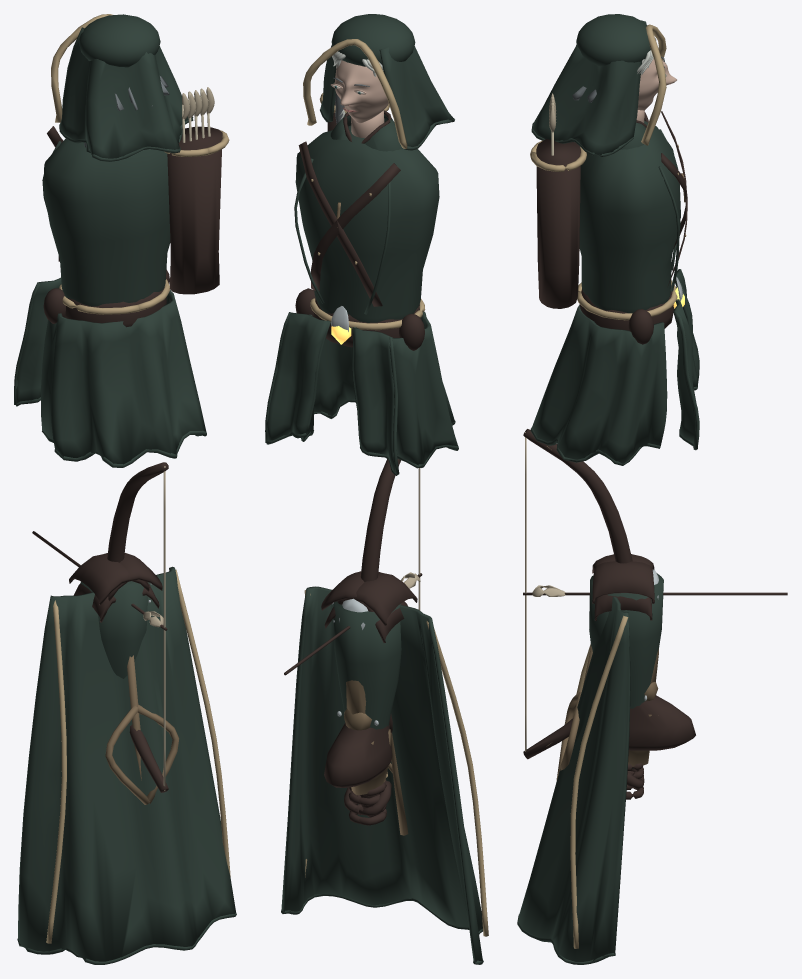
The model's file is ranger.glb.
The picture shows the model from 3 angles, left to right: view 1: azimuth 30°, elevation 25°; view 2: azimuth 150°, elevation 25°; view 3: azimuth 270°, elevation 25°; orthographic projection. The views are drawn at different scales.
Parts seen in each view (by area): view 1: Cape__sage, Body__sage, Body__leather, Cape__gold, LegL__sage, Weapon__leather, Cape__bronze, Body__gold, ArmL__leather, ArmR__leather, BowString__linen, Body__linen; view 2: Body__sage, Cape__sage, LegL__sage, Body__leather, KneeL__leather, ArmL__leather, Body__skin, Body__gold, Weapon__leather, Cape__gold, ArmR__leather, ArmL__bronze (+2 smaller); view 3: Body__sage, Cape__sage, Body__leather, LegL__sage, ArmR__leather, KneeL__leather, Weapon__leather, Body__gold, Cape__gold, Body__skin, Cape__bronze, Arrow__leather (+1 smaller).
Part boxes in pixels (box(x1,y1,x2,y2)): Cape__sage: box(17, 566, 236, 964); Body__sage: box(14, 14, 206, 467); Body__leather: box(43, 126, 222, 327); Cape__gold: box(46, 569, 230, 943); LegL__sage: box(80, 581, 147, 678); Weapon__leather: box(107, 462, 168, 792); Cape__bronze: box(105, 655, 179, 804); Body__gold: box(51, 14, 229, 314); ArmL__leather: box(69, 554, 149, 622); ArmR__leather: box(103, 553, 162, 608); BowString__linen: box(163, 466, 165, 790); Body__linen: box(182, 87, 214, 119); Body__sage: box(265, 14, 458, 475); Cape__sage: box(281, 586, 483, 964); LegL__sage: box(333, 601, 401, 729); Body__leather: box(295, 102, 424, 350); KneeL__leather: box(324, 723, 392, 787); ArmL__leather: box(334, 572, 417, 825); Body__skin: box(330, 60, 388, 138); Body__gold: box(303, 39, 425, 330); Weapon__leather: box(360, 459, 401, 732); Cape__gold: box(304, 590, 488, 936); ArmR__leather: box(321, 571, 391, 823); ArmL__bronze: box(344, 708, 391, 795); Body__sage: box(530, 14, 699, 465); Cape__sage: box(517, 596, 630, 964); Body__leather: box(536, 111, 687, 344); LegL__sage: box(589, 573, 663, 708); ArmR__leather: box(592, 561, 654, 799); KneeL__leather: box(628, 695, 695, 750); Weapon__leather: box(523, 429, 632, 759); Body__gold: box(530, 24, 686, 320); Cape__gold: box(570, 615, 628, 948); Body__skin: box(636, 58, 676, 122); Cape__bronze: box(556, 646, 592, 780); Arrow__leather: box(523, 592, 787, 595).
Size of what is drawn, in the model's own units: 0.7602 by 3.35 by 0.9087.
